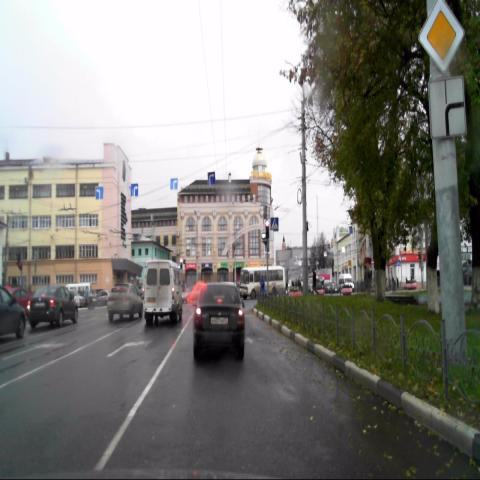8_13: (429, 75, 467, 139)
